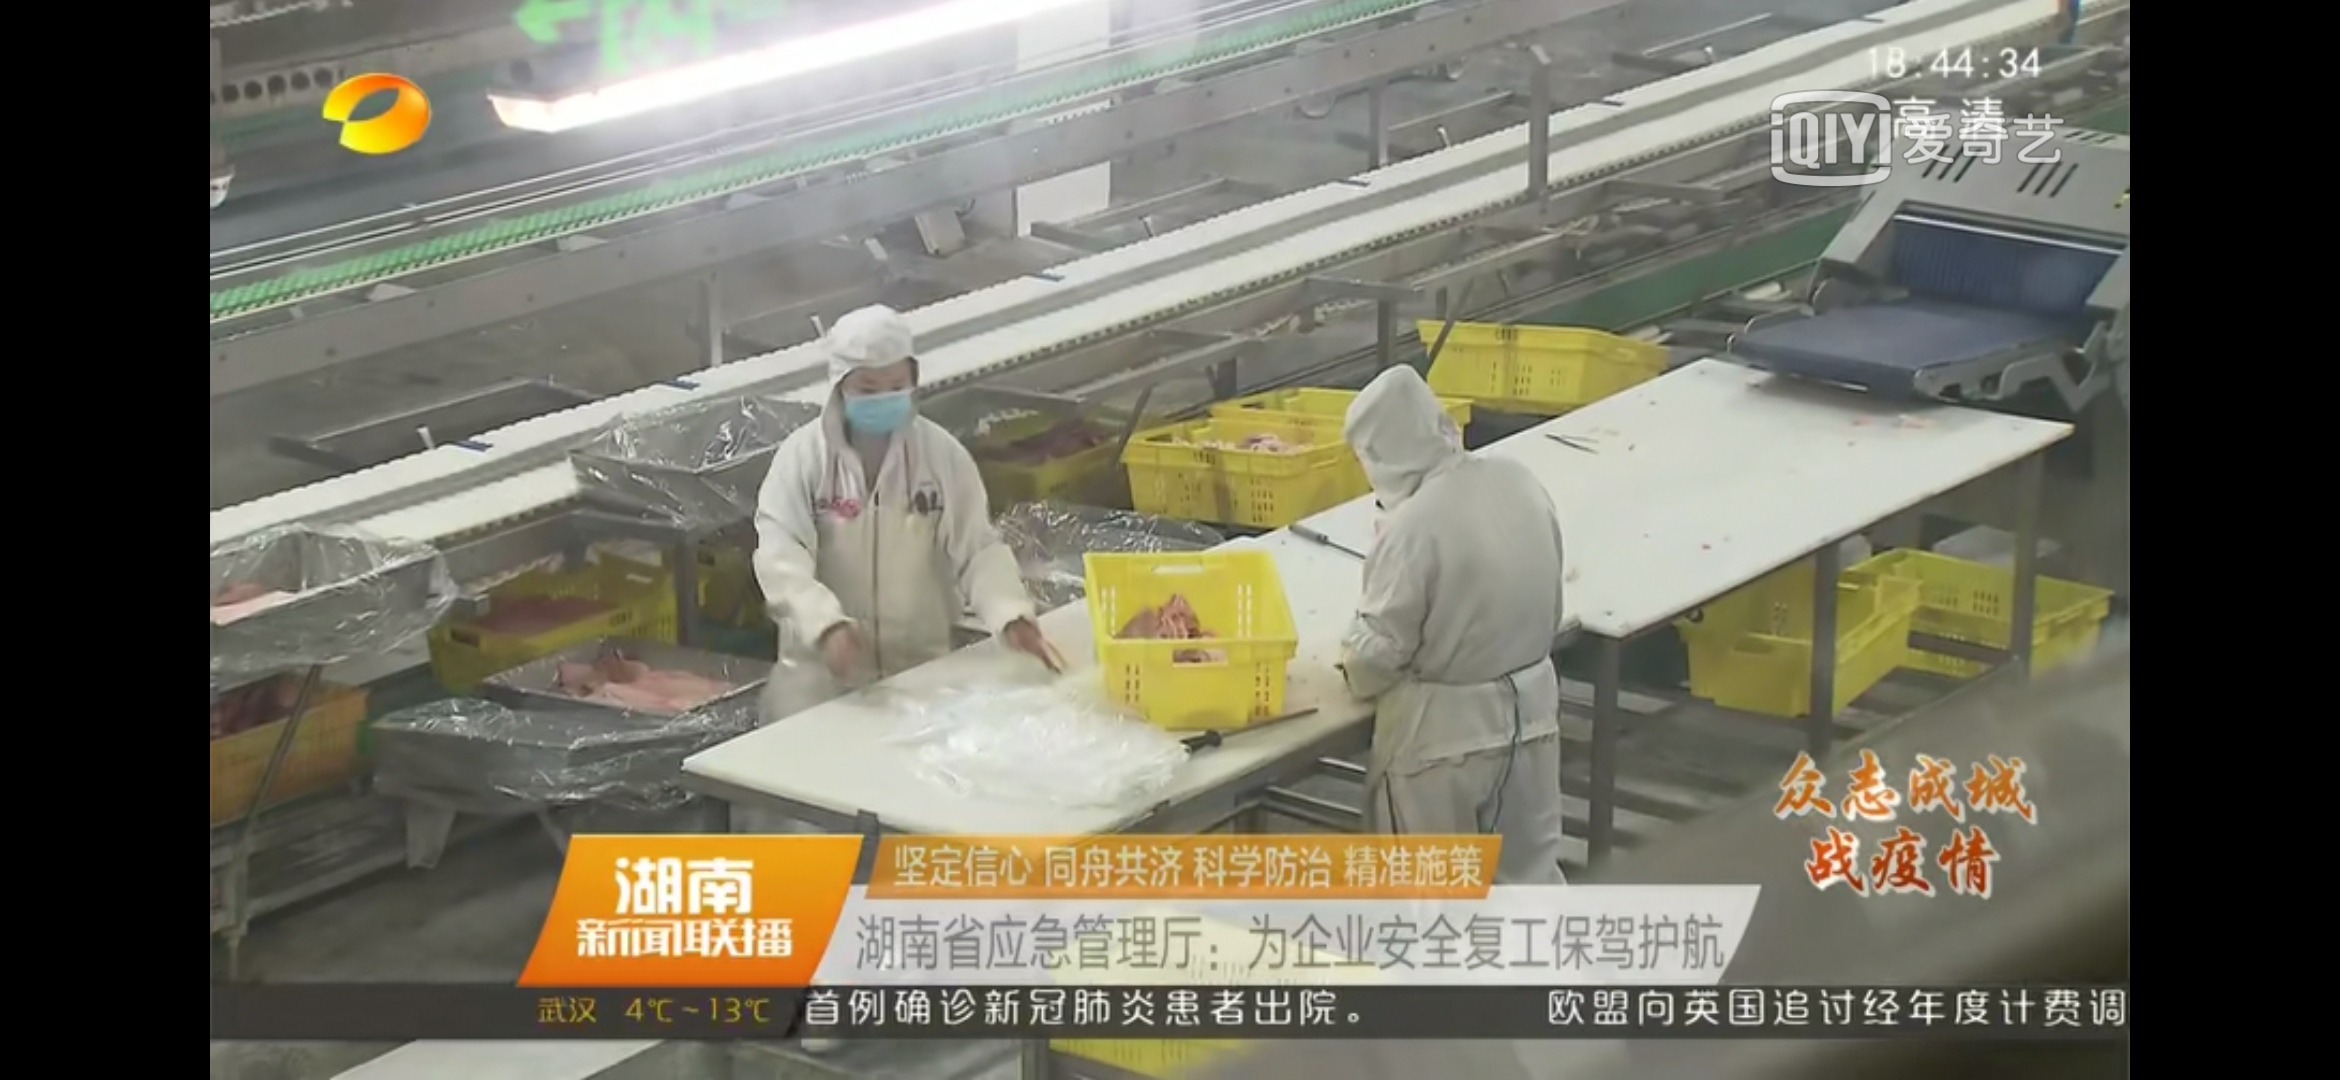correctlyWear: (837, 354, 916, 439)
